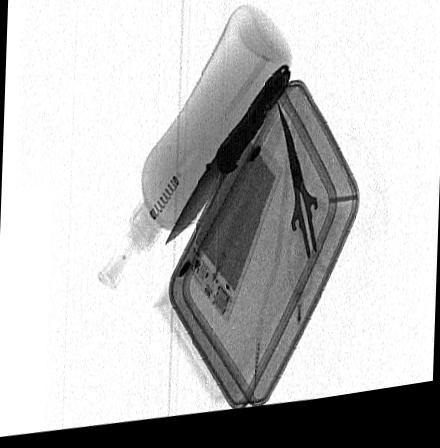Powerbank: (184, 129, 284, 328)
Scissors: (160, 72, 290, 249), (275, 97, 341, 308)
